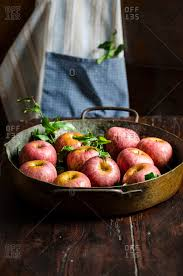apple: (18, 139, 56, 166), (21, 162, 57, 190), (85, 156, 120, 184), (137, 137, 173, 163), (120, 165, 159, 187), (121, 149, 157, 170), (69, 150, 102, 172), (56, 172, 90, 192), (110, 129, 142, 150)
